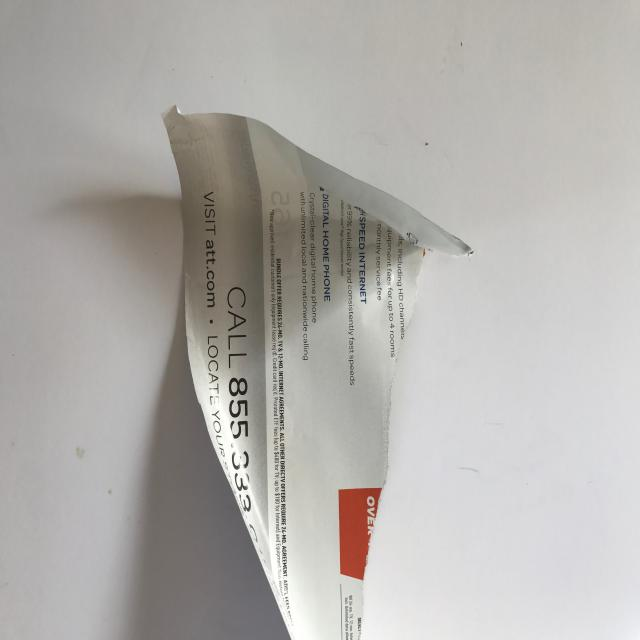Paper: (160, 94, 482, 640)
